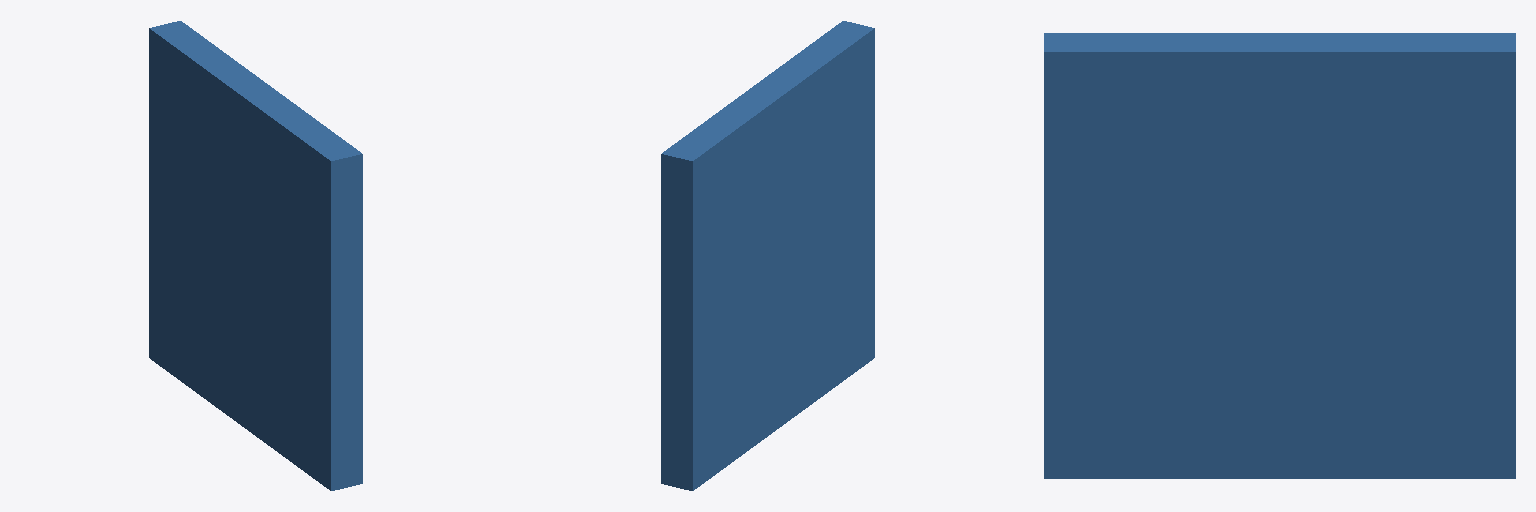
robot.urdf — hand:
<?xml version="1.0"?>
<robot name="hand">
  <link name="hand">
    <visual>
      <geometry>
        <box size="0.06 0.6 0.6"/>
      </geometry>
      <origin xyz="0 0 0.3"/>
      <material name="hand_mat">
        <color rgba="0.3 0.5 0.7 1"/>
      </material>
    </visual>
    <collision>
      <geometry>
        <box size="0.06 0.6 0.6"/>
      </geometry>
      <surface>
	<contact>
	  <kp>100000</kp>
	  <kd>1</kd>
	</contact>
      </surface>
    </collision>
    <inertial>
      <mass value="1"/>
      <inertia ixx="0.72" ixy="-0.036" ixz="-0.036" iyy="0.3636" iyz="-0.36" izz="0.3636"/>
    </inertial>
  </link>
</robot>

--- Facts derived from the render (not from the file) ---
The picture shows the robot from 3 angles, left to right: view 1: azimuth 30°, elevation 25°; view 2: azimuth 150°, elevation 25°; view 3: azimuth 270°, elevation 25°; orthographic projection.
Robot: hand — 1 links, 0 joints (none); root link hand; default pose: every joint at zero.
Links seen in each view (by area): view 1: hand; view 2: hand; view 3: hand.
Boxes of the visible links, x1=… form: hand: x1=149, y1=21, x2=362, y2=490; hand: x1=661, y1=21, x2=874, y2=490; hand: x1=1044, y1=33, x2=1515, y2=478.
Size in the robot's own frame: 0.06 by 0.6 by 0.6 metres.
Geometry: primitives only (box / cylinder / sphere), no mesh files.
